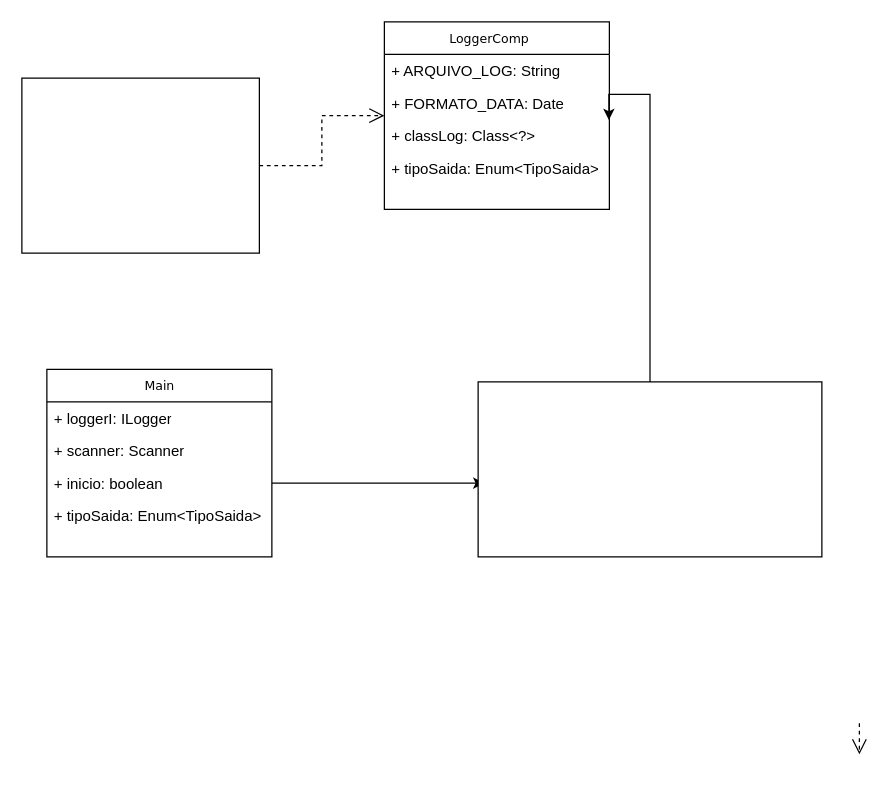
The diagram is 896 pixels wide and 791 high, and some of its shapes have lost their labels. Each missing label, with the centre of its shape:
"<<Interface>> ILogger + info(string): void + error(string, throwable): void" goes at (x=140, y=165).
"LoggerFactory + injectLogger(object, TipoSaida): void" goes at (x=649, y=469).
